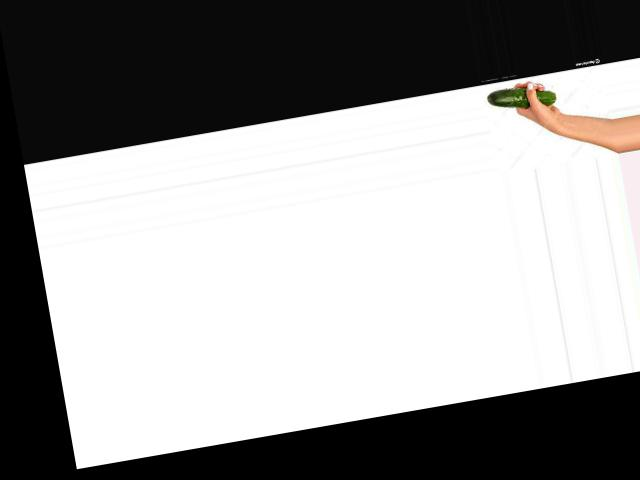cucumber: (485, 80, 556, 115)
